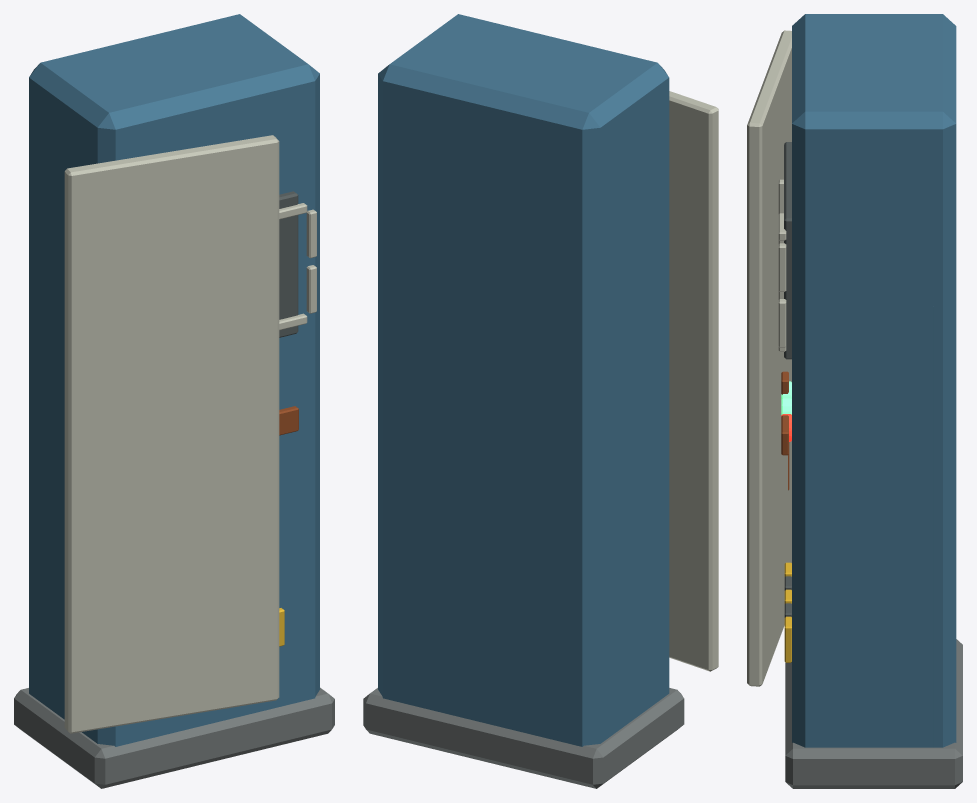
File: runtime.glb
The picture shows the model from 3 angles, left to right: view 1: azimuth 30°, elevation 25°; view 2: azimuth 150°, elevation 25°; view 3: azimuth 270°, elevation 25°; orthographic projection.
Visible parts, largest first — view 1: reactor-control-box-v10_nocol; view 2: reactor-control-box-v10_nocol; view 3: reactor-control-box-v10_nocol.
Boxes of the visible parts, left/top/right/bottom form: reactor-control-box-v10_nocol: left=14, top=14, right=334, bottom=788; reactor-control-box-v10_nocol: left=363, top=14, right=718, bottom=788; reactor-control-box-v10_nocol: left=747, top=14, right=962, bottom=788.
Size of the model in its own units: 1.41 by 3.33 by 0.9708.
